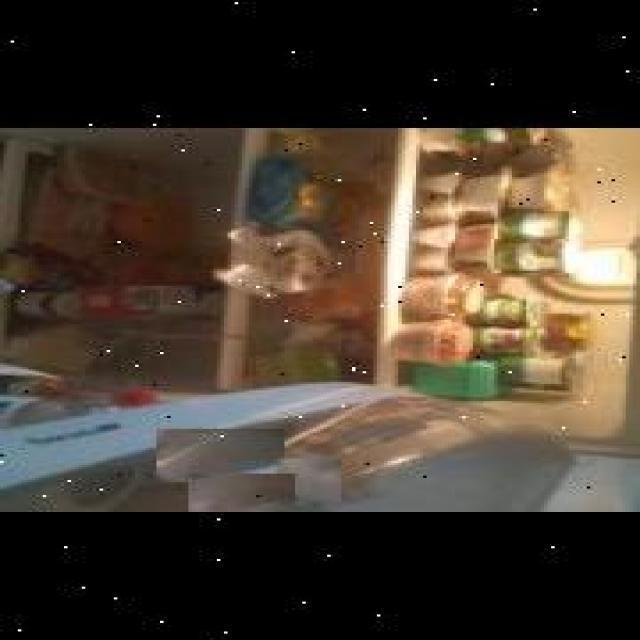egg: (151, 429, 279, 482), (185, 473, 292, 512), (272, 460, 336, 502)
milk: (71, 287, 217, 321)
yogurt: (491, 239, 569, 273), (496, 212, 571, 240)
